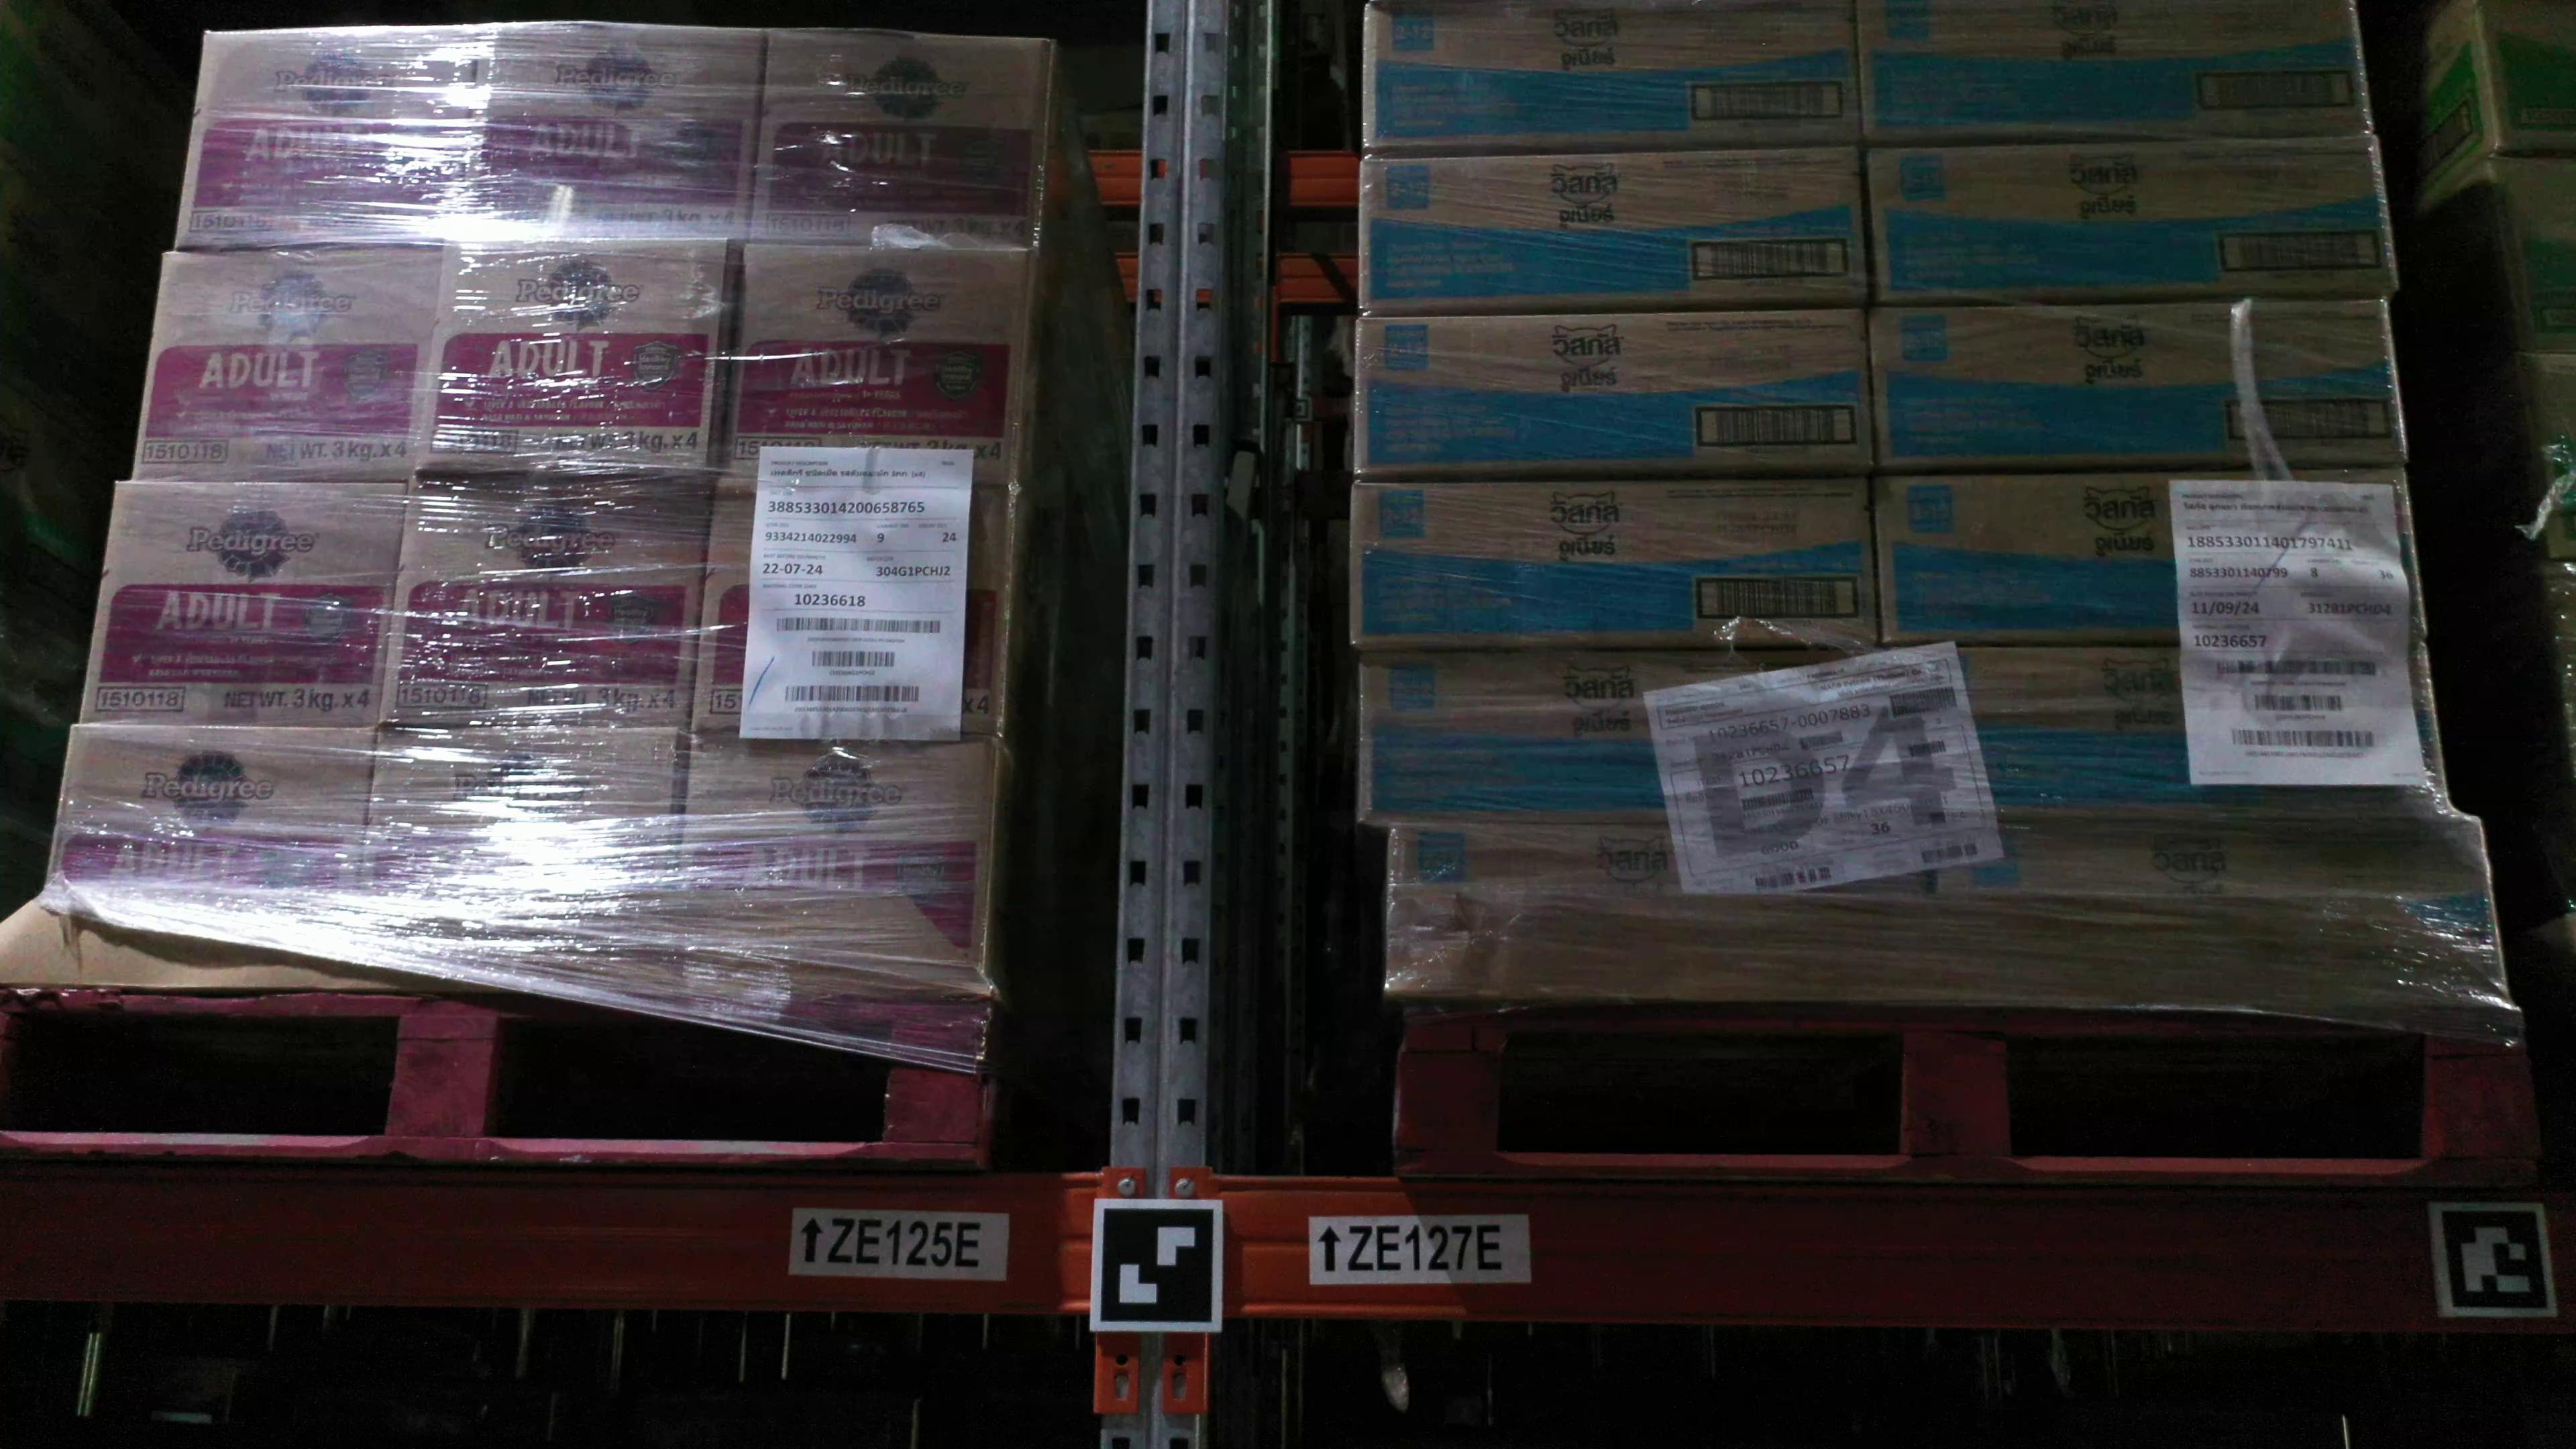-: (1923, 812, 2509, 991), (1882, 639, 2450, 819), (1872, 464, 2426, 646), (1867, 295, 2413, 469), (1353, 646, 1884, 823), (1353, 306, 1875, 481), (1350, 474, 1881, 646), (1870, 138, 2396, 304), (1359, 143, 1870, 313), (1387, 819, 1925, 975), (78, 478, 409, 727), (379, 483, 713, 729), (686, 492, 1010, 738), (678, 731, 1003, 971), (715, 241, 1023, 492), (414, 241, 729, 483), (354, 727, 679, 952), (133, 248, 441, 483), (44, 725, 380, 932), (172, 25, 481, 248), (745, 28, 1051, 253), (460, 23, 768, 244)
